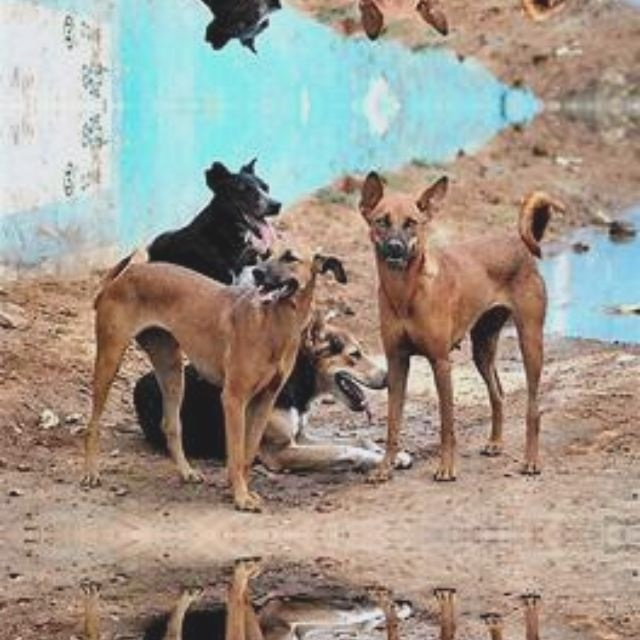dog: (362, 179, 548, 466), (362, 603, 547, 640), (362, 0, 547, 31)
